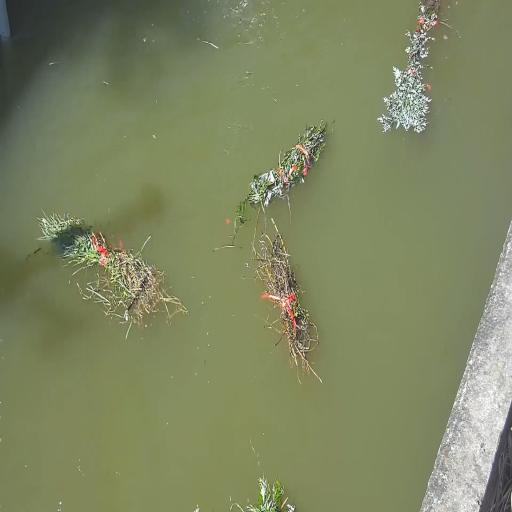twig: (37, 211, 187, 339), (253, 219, 321, 382), (235, 121, 326, 231), (378, 0, 439, 132), (231, 476, 295, 511)
